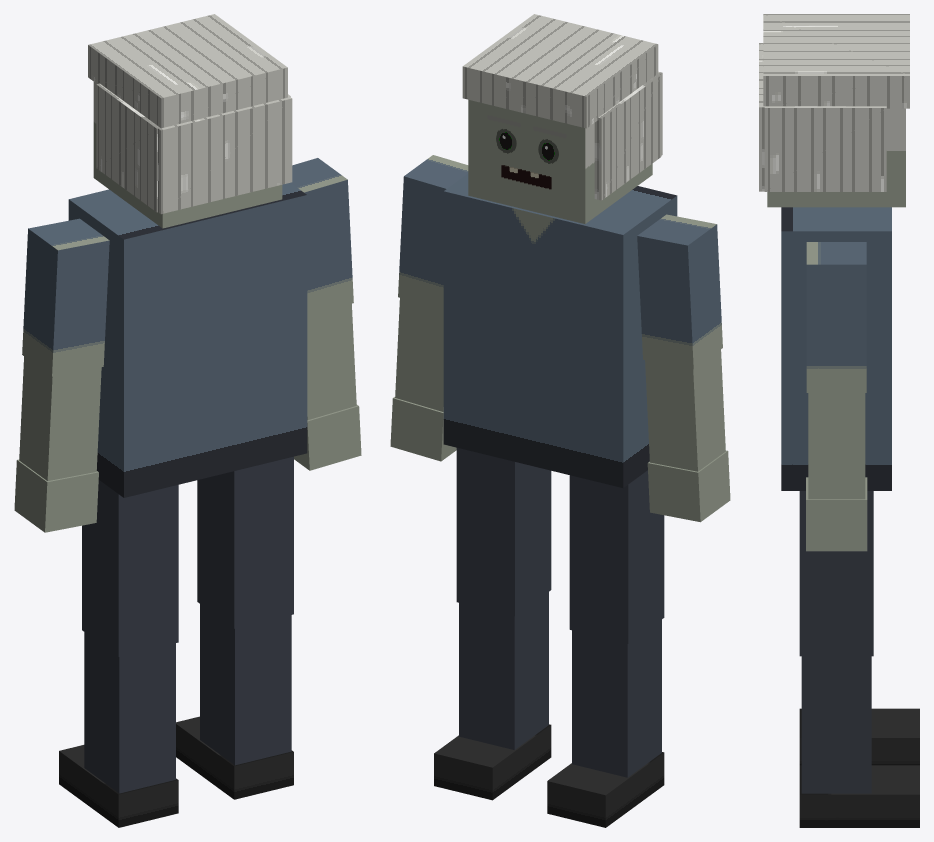
Rendered from hair_bob.glb.
The picture shows the model from 3 angles, left to right: view 1: azimuth 30°, elevation 25°; view 2: azimuth 150°, elevation 25°; view 3: azimuth 270°, elevation 25°; orthographic projection. The views are drawn at different scales.
Visible parts, largest first — view 1: block_torso, block_hair-cap, block_thigh.L, block_thigh.R, block_shin.R, block_shin.L, block_upper_arm.L, block_hair-bob, block_forearm.L, block_upper_arm.R, block_hair-side, block_forearm.R (+5 smaller); view 2: block_torso, block_hair-cap, block_thigh.L, block_thigh.R, block_head, block_shin.L, block_shin.R, block_upper_arm.L, block_forearm.L, block_upper_arm.R, block_hair-side, block_foot.L (+4 smaller); view 3: block_torso, block_hair-cap, block_hair-side, block_shin.R, block_upper_arm.R, block_thigh.R, block_forearm.R, block_foot.R, block_head, block_hand.R, block_foot.L, block_hair-bob.
Part boxes in pixels (x1,y1,x2,y2): block_torso: [68, 182, 307, 497]; block_hair-cap: [88, 14, 287, 128]; block_thigh.L: [82, 480, 178, 656]; block_thigh.R: [197, 456, 293, 628]; block_shin.R: [200, 604, 291, 765]; block_shin.L: [84, 632, 175, 793]; block_upper_arm.L: [22, 218, 109, 376]; block_hair-bob: [143, 95, 292, 214]; block_forearm.L: [19, 356, 101, 480]; block_upper_arm.R: [291, 158, 353, 316]; block_hair-side: [96, 83, 157, 212]; block_forearm.R: [307, 303, 356, 420]; block_torso: [443, 173, 677, 487]; block_hair-cap: [462, 14, 658, 128]; block_thigh.L: [569, 470, 664, 643]; block_thigh.R: [456, 448, 551, 616]; block_head: [468, 99, 652, 223]; block_shin.L: [572, 619, 661, 777]; block_shin.R: [459, 592, 548, 749]; block_upper_arm.L: [637, 214, 722, 369]; block_forearm.L: [645, 349, 725, 471]; block_upper_arm.R: [398, 155, 468, 310]; block_hair-side: [594, 75, 661, 200]; block_foot.L: [547, 752, 664, 827]; block_torso: [781, 207, 891, 490]; block_hair-cap: [763, 14, 909, 108]; block_hair-side: [764, 106, 886, 191]; block_shin.R: [801, 656, 871, 793]; block_upper_arm.R: [806, 242, 866, 392]; block_thigh.R: [799, 491, 873, 656]; block_forearm.R: [808, 393, 865, 499]; block_foot.R: [799, 765, 919, 827]; block_head: [767, 108, 905, 207]; block_hand.R: [806, 477, 867, 551]; block_foot.L: [799, 708, 919, 765]; block_hair-bob: [759, 43, 794, 191].
Bounding box in the file's own units: 0.7948 × 1.77 × 0.348.
Materials: 1 (1 with a texture image).
